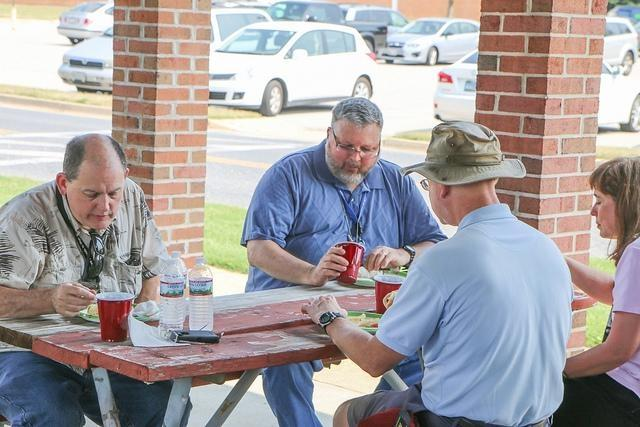car: (435, 48, 640, 132), (207, 21, 379, 114), (378, 18, 479, 65), (58, 22, 112, 95), (342, 6, 408, 50), (58, 1, 114, 43), (604, 16, 638, 75), (268, 1, 344, 25), (606, 4, 640, 26)
truck: (265, 1, 388, 59)
